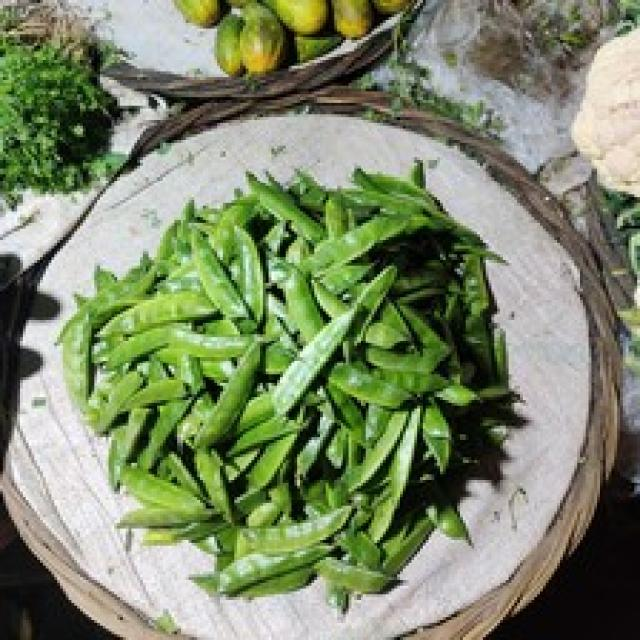Bean: (54, 157, 523, 614)
